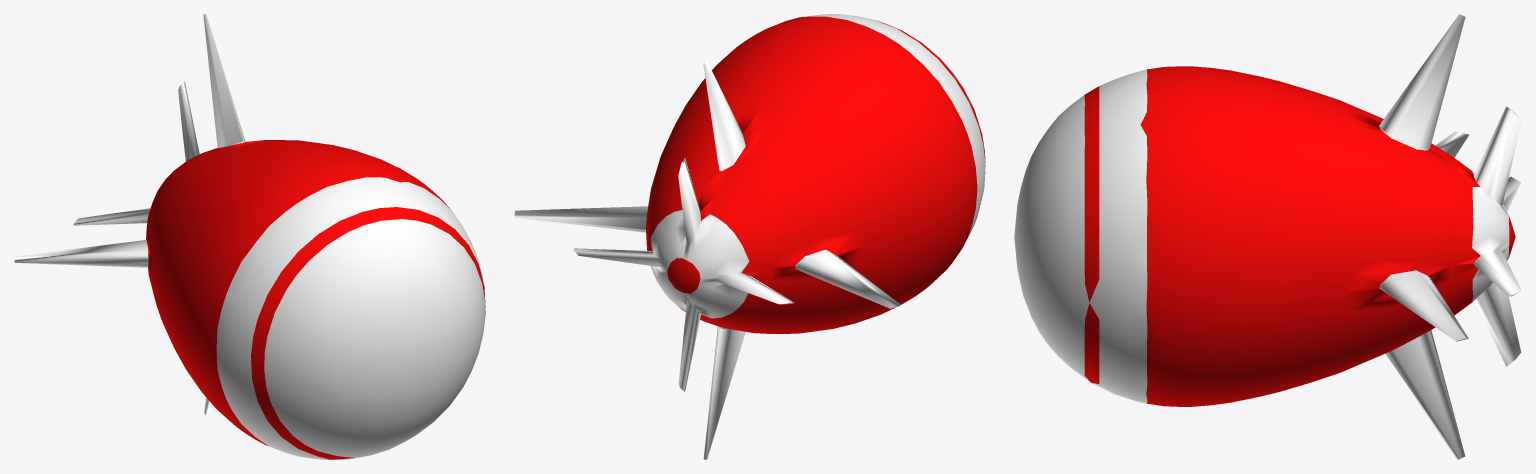
The model's file is Missile.fbx.
3 views of the same model, side by side, from view 1: azimuth 30°, elevation 25°; view 2: azimuth 150°, elevation 25°; view 3: azimuth 270°, elevation 25° (orthographic). The views are drawn at different scales.
Parts seen in each view (by area): view 1: Missile; view 2: Missile; view 3: Missile.
Part boxes in pixels (x1,y1,x2,y2): Missile: (14,14,485,459); Missile: (514,14,985,459); Missile: (1014,14,1521,459).
Bounding box in the file's own units: 0.575 × 0.5713 × 0.5892.
